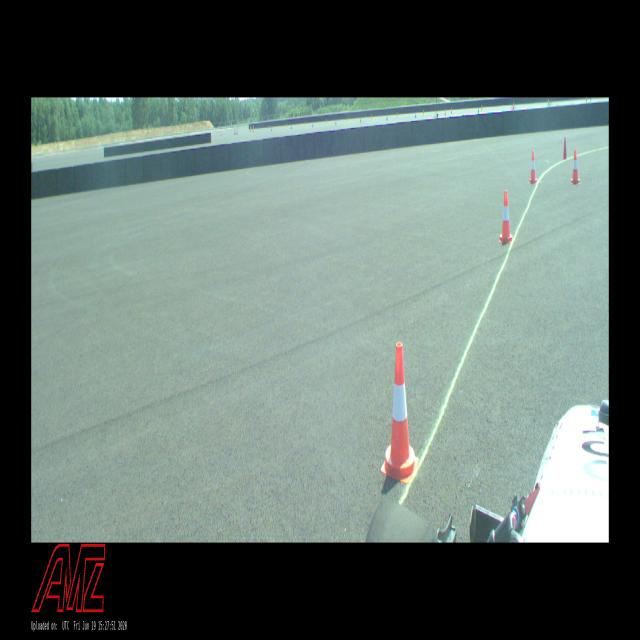orange_cone: (382, 343, 418, 484), (500, 191, 511, 243), (570, 150, 580, 183), (529, 151, 538, 183)
yellow_cone: (396, 112, 398, 118), (423, 109, 424, 116), (306, 120, 306, 128)
